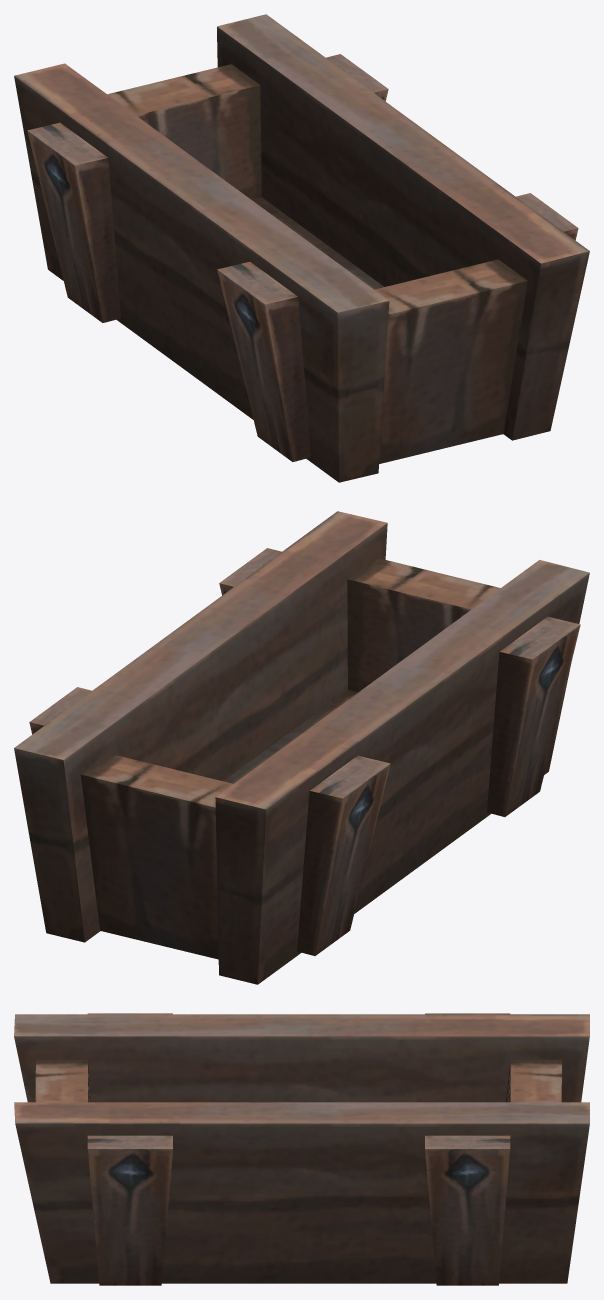
Rendered from mine_trough01.fbx.
The picture shows the model from 3 angles, top to bottom: view 1: azimuth 30°, elevation 25°; view 2: azimuth 150°, elevation 25°; view 3: azimuth 270°, elevation 25°; orthographic projection. The views are drawn at different scales.
Visible parts, largest first — view 1: mine_trough01; view 2: mine_trough01; view 3: mine_trough01.
Boxes of the visible parts, box(x1,y1,x2,y2) form: mine_trough01: box(14, 14, 589, 482); mine_trough01: box(14, 511, 589, 984); mine_trough01: box(14, 1013, 589, 1285).
Size of the model in its own units: 1.57 by 0.9084 by 2.81.
